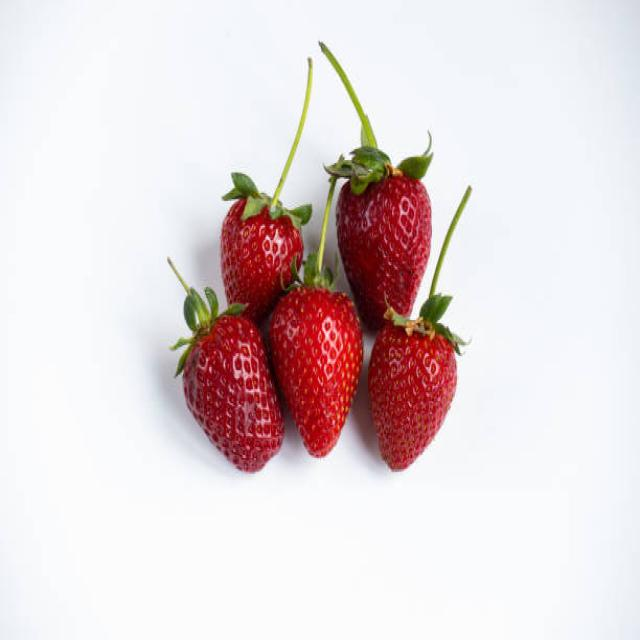Healthy Fruit: (266, 283, 363, 458), (184, 311, 285, 474), (336, 179, 433, 331), (369, 323, 455, 474), (220, 196, 303, 321)
